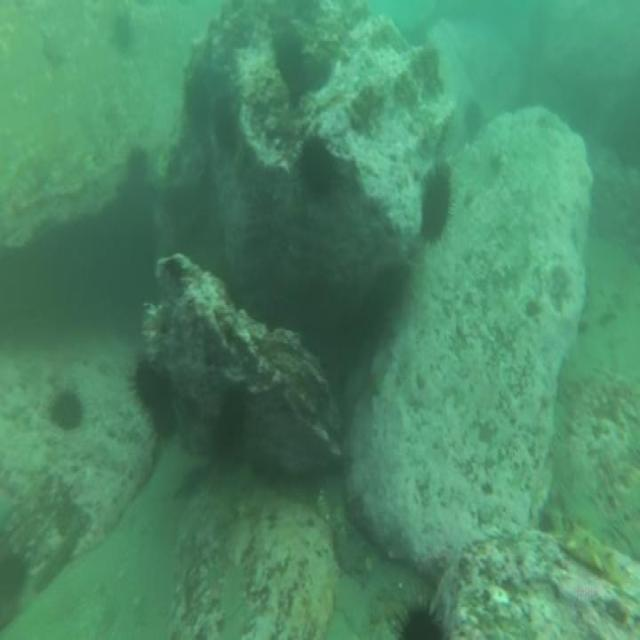echinus: (124, 352, 174, 423), (423, 161, 457, 250), (298, 133, 337, 207), (180, 64, 214, 140), (274, 32, 308, 104), (216, 381, 246, 450), (213, 93, 243, 161), (49, 386, 83, 433), (462, 96, 484, 142)
holothurian: (556, 518, 626, 591)
